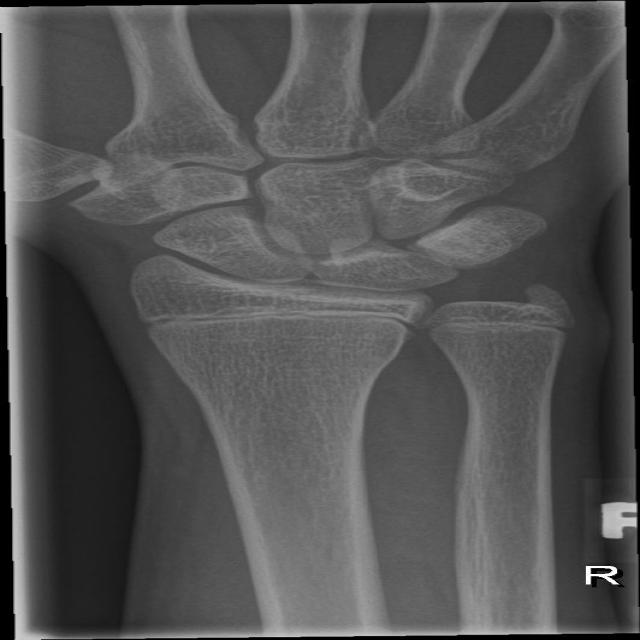fracture: (120, 295, 447, 347), (393, 302, 586, 346)
